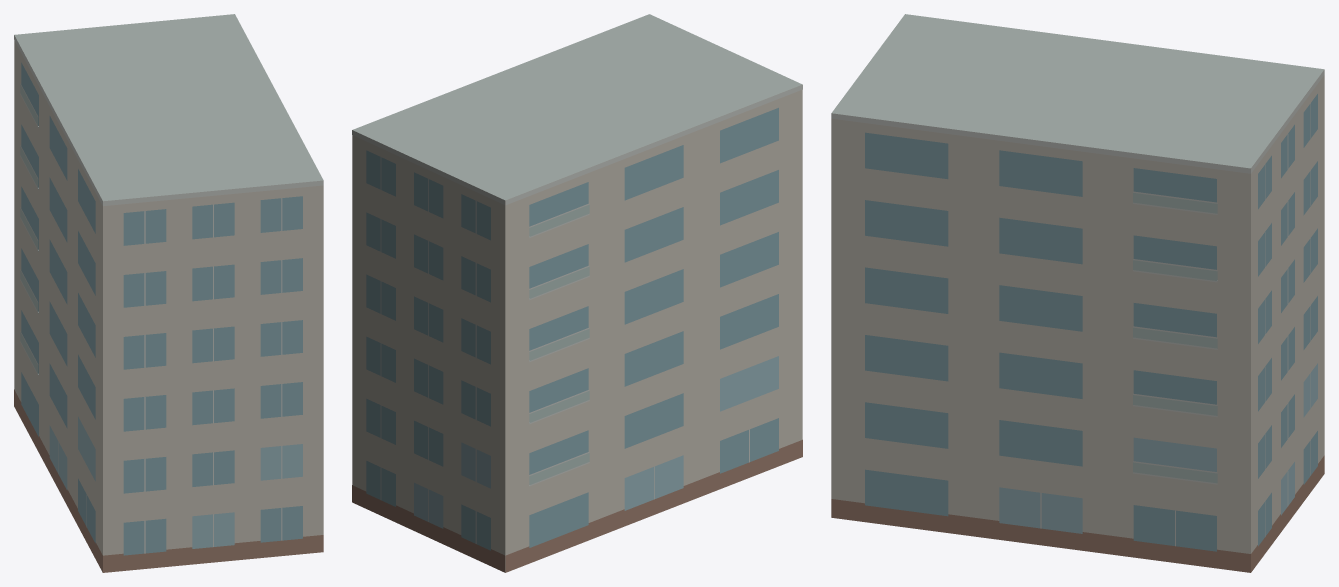
Rendered from survey-upis-32929351.glb.
3 views of the same model, side by side, from view 1: azimuth 30°, elevation 25°; view 2: azimuth 150°, elevation 25°; view 3: azimuth 270°, elevation 25° (orthographic). The views are drawn at different scales.
Visible parts, largest first — view 1: survey-upis-32929351.tmp; view 2: survey-upis-32929351.tmp; view 3: survey-upis-32929351.tmp.
Boxes of the visible parts, x1,y1,x2,y2 form: survey-upis-32929351.tmp: (14,14,323,572); survey-upis-32929351.tmp: (352,14,802,572); survey-upis-32929351.tmp: (831,14,1324,572).
Size of the model in its own units: 15 by 18.3 by 20.24.
